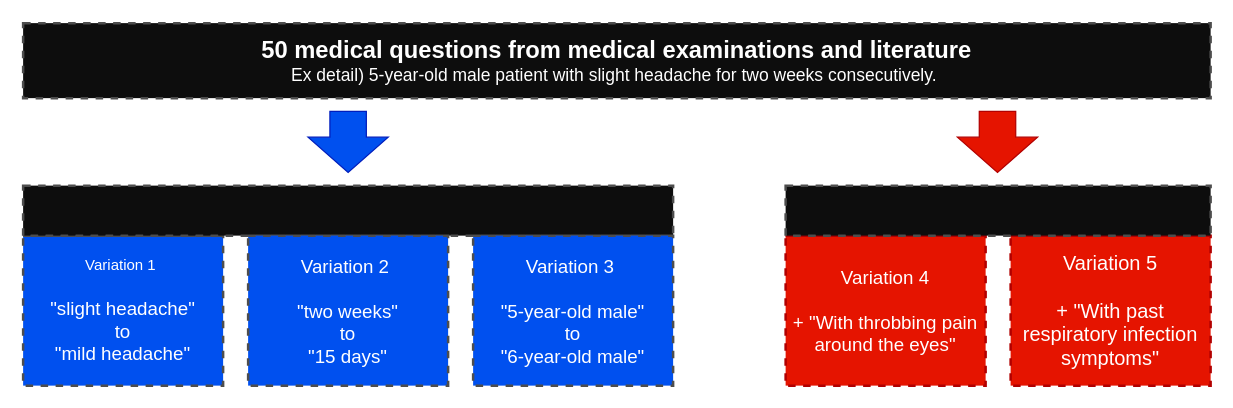
Image size: 1233x408. Some labels were removed from this diagram. The shapes that lost their labels are listed below. From the top down, each one's box as (x1, y1, x2, y2) in pixels, then its label:
(21, 184, 674, 236): Three Variations with Minor Changes
(784, 184, 1211, 236): Two Variations with Misleading Details
